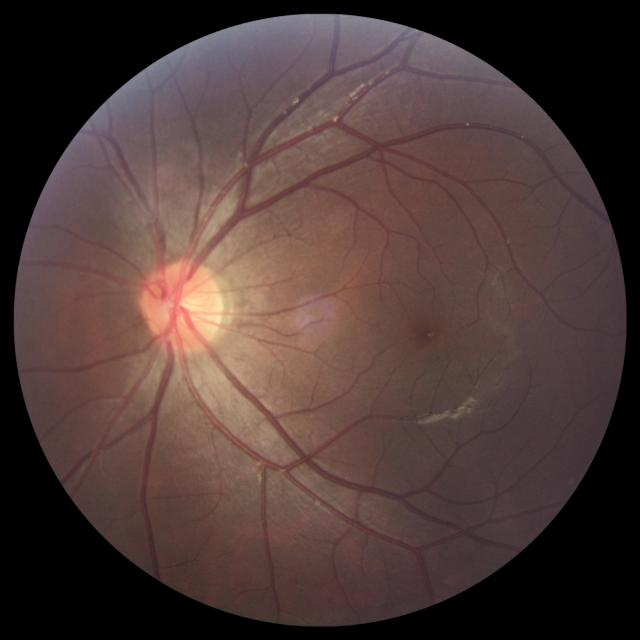OC: (163, 291, 200, 325)
OD: (137, 257, 227, 353)
